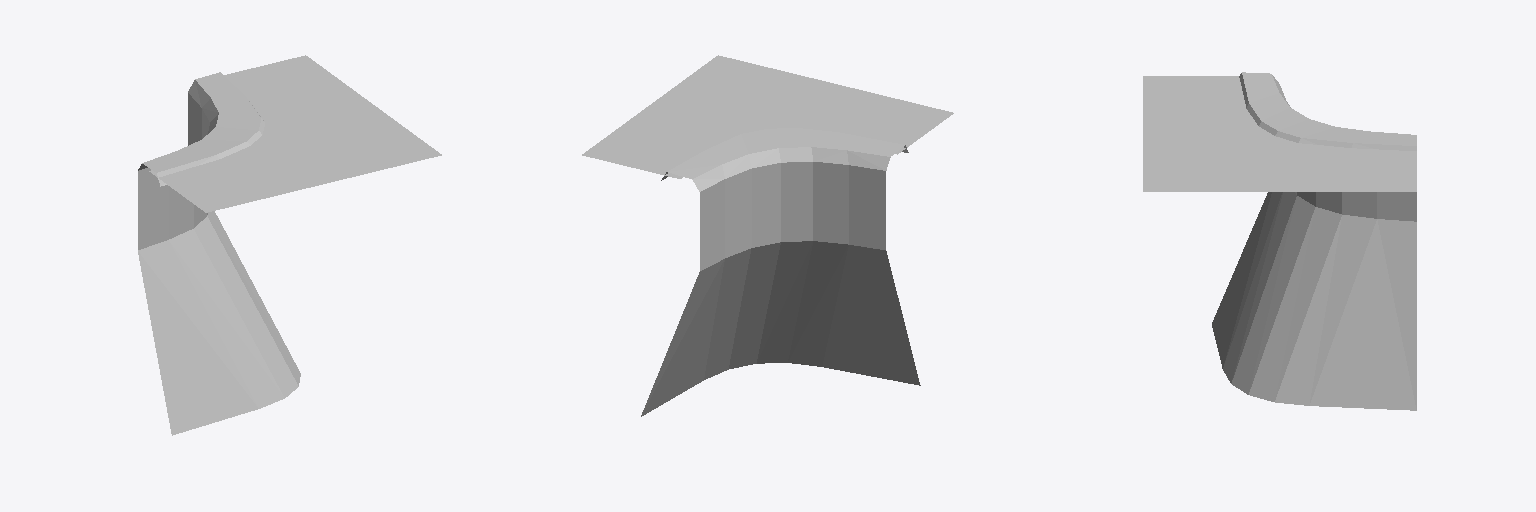
File: wall_corner_concave_c.obj
3 renders of one model, left to right at view 1: azimuth 30°, elevation 25°; view 2: azimuth 150°, elevation 25°; view 3: azimuth 270°, elevation 25°, orthographic.
Visible parts, largest first — view 1: wall_corner_concave_c; view 2: wall_corner_concave_c; view 3: wall_corner_concave_c.
Boxes of the visible parts, x1=… form: wall_corner_concave_c: x1=138, y1=55, x2=441, y2=435; wall_corner_concave_c: x1=582, y1=55, x2=953, y2=416; wall_corner_concave_c: x1=1143, y1=72, x2=1416, y2=410.
Size of the model in its own units: 400 by 406 by 400.